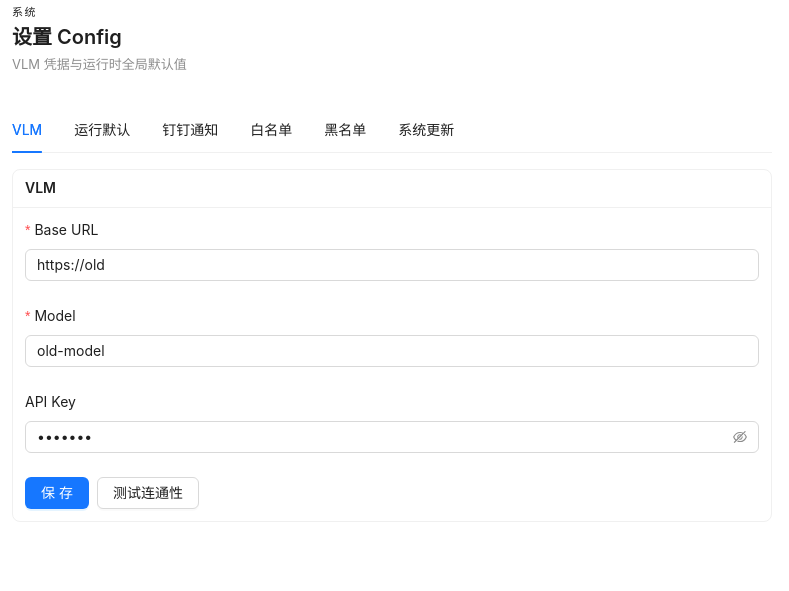
it: ConfigPage › shows an error alert instead of a silently stuck spinner when the connectivity test request itself fails
The width and height of the screenshot is (789, 591).
Click the button "测试连通性".
click(148, 493)  # box [97,477,199,509]
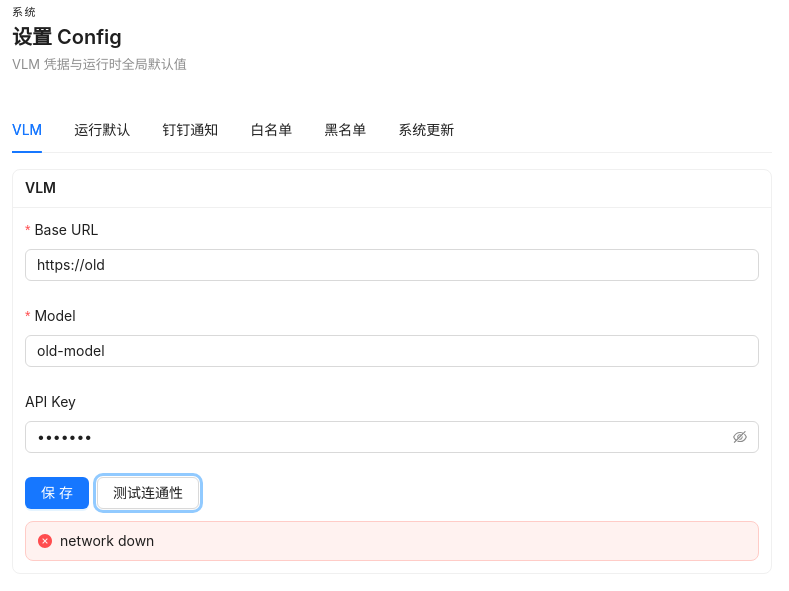
Result: the text "network down" is shown at [60,532,154,549]
